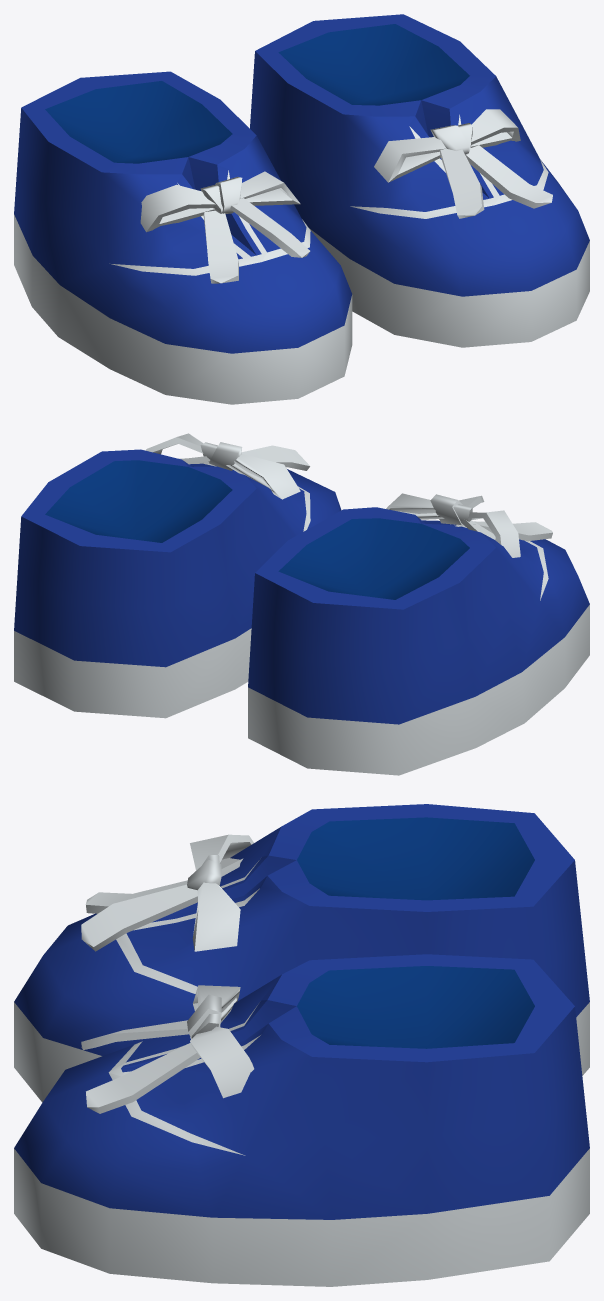
The model's file is Shoes_1.fbx.
3 renders of one model, top to bottom at view 1: azimuth 30°, elevation 25°; view 2: azimuth 150°, elevation 25°; view 3: azimuth 270°, elevation 25°, orthographic. The views are drawn at different scales.
Visible parts, largest first — view 1: Shoes_1; view 2: Shoes_1; view 3: Shoes_1.
Boxes of the visible parts, <box> form: Shoes_1: <box>14,14,589,404</box>; Shoes_1: <box>14,433,589,775</box>; Shoes_1: <box>14,804,589,1286</box>.
Size of the model in its own units: 40.39 by 13.43 by 33.59.
